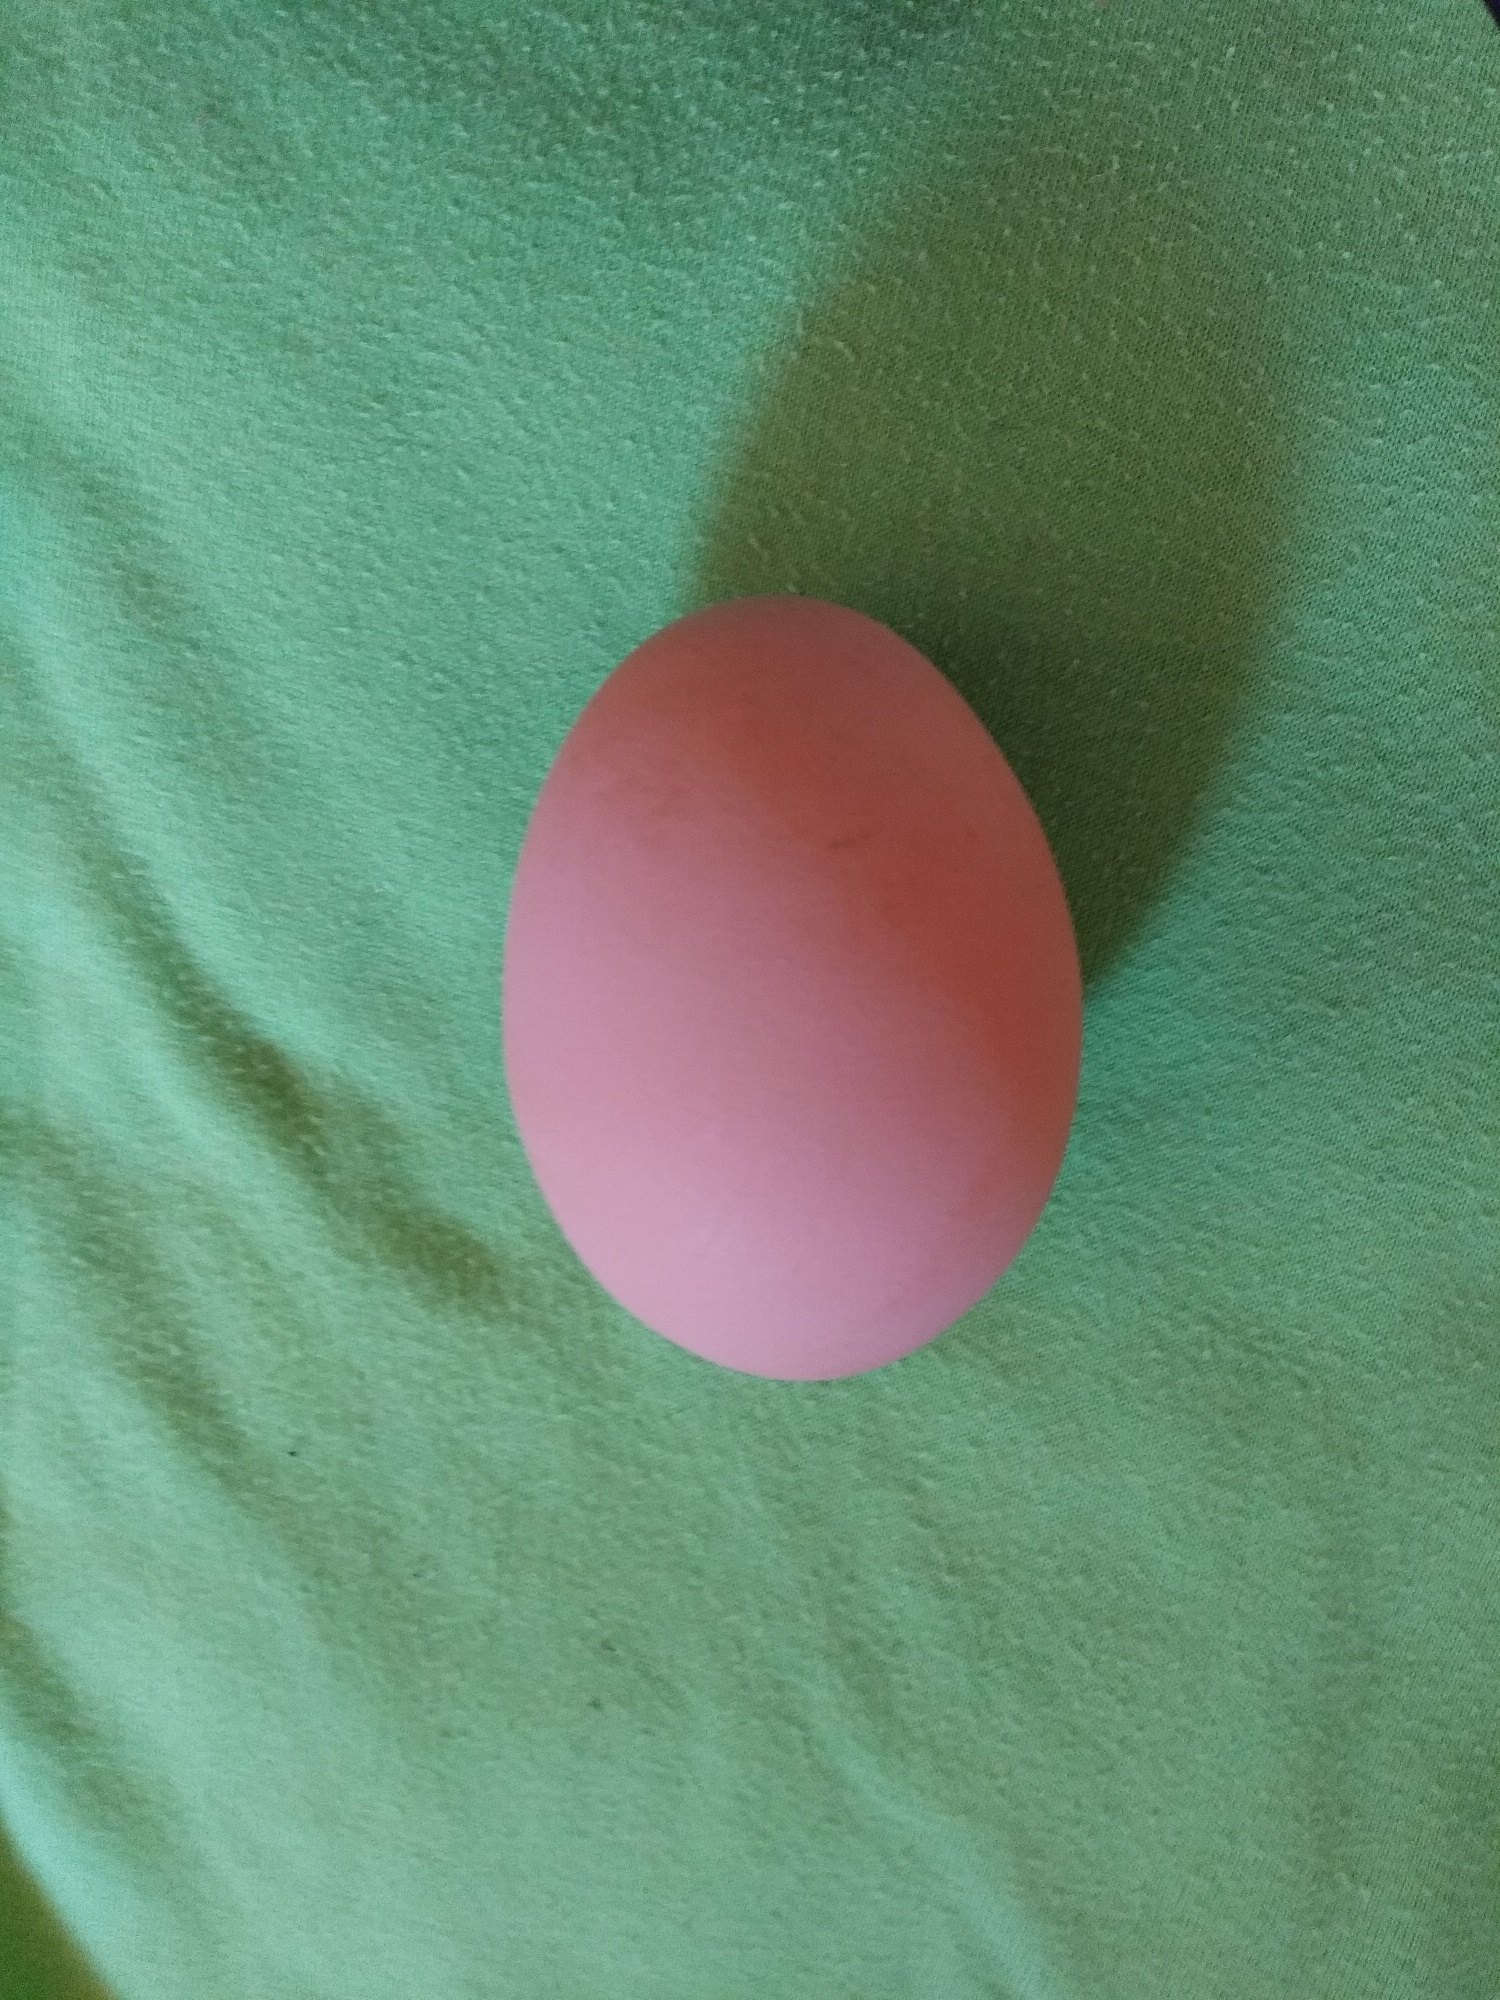Female: (493, 584, 1089, 1391)
